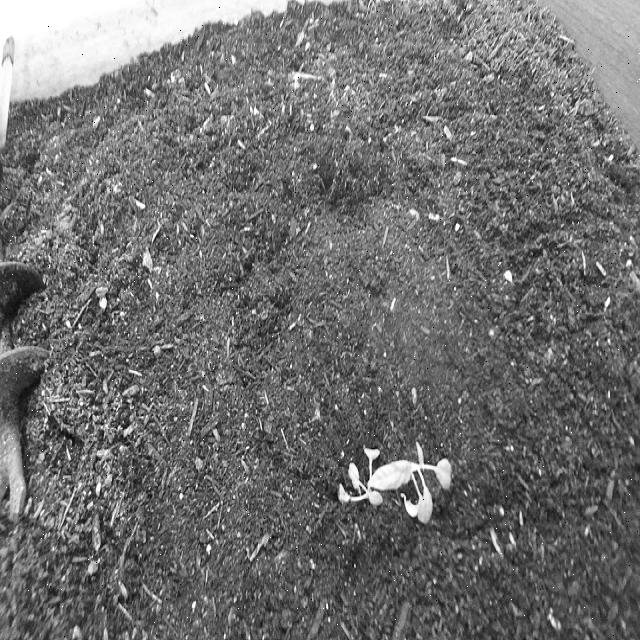Healthy: (335, 434, 457, 530)
